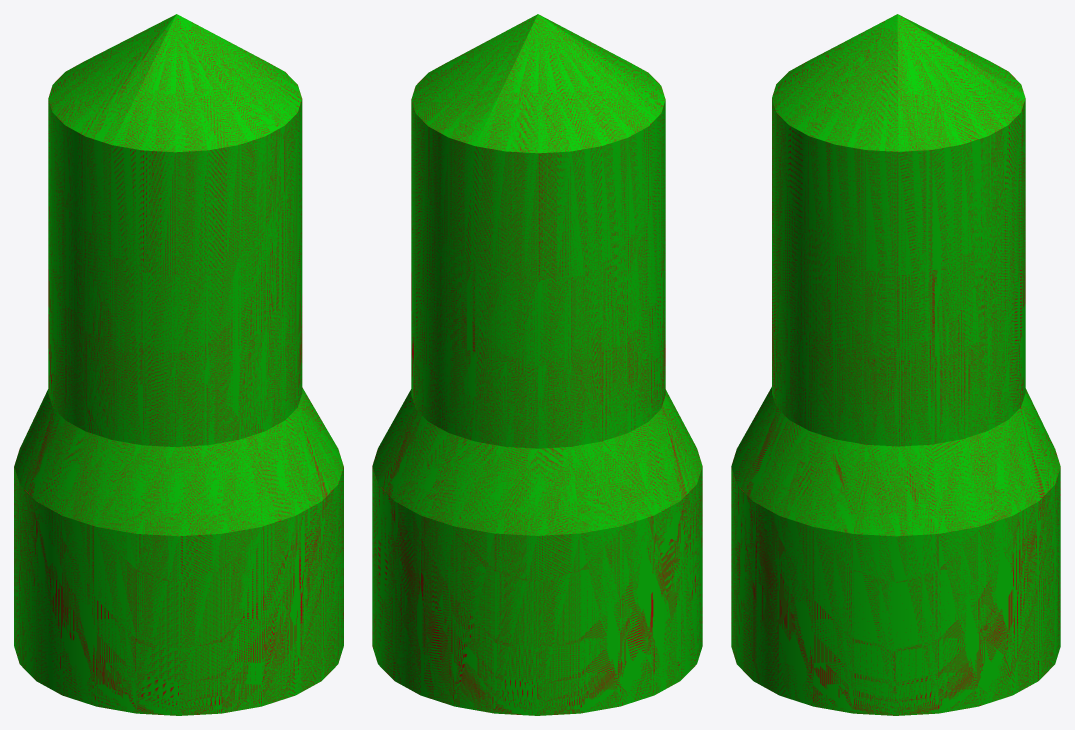
The model's file is green_buoy_marker.dae.
The picture shows the model from 3 angles, left to right: view 1: azimuth 30°, elevation 25°; view 2: azimuth 150°, elevation 25°; view 3: azimuth 270°, elevation 25°; orthographic projection.
Visible parts, largest first — view 1: SketchUp (×3); view 2: SketchUp (×3); view 3: SketchUp (×3).
Part boxes in pixels (box(x1,y1,x2,y2)): SketchUp (×3): box(14, 14, 343, 715); SketchUp (×3): box(372, 14, 702, 715); SketchUp (×3): box(731, 14, 1060, 715).
Bounding box in the file's own units: 37 × 37 × 78.25.
